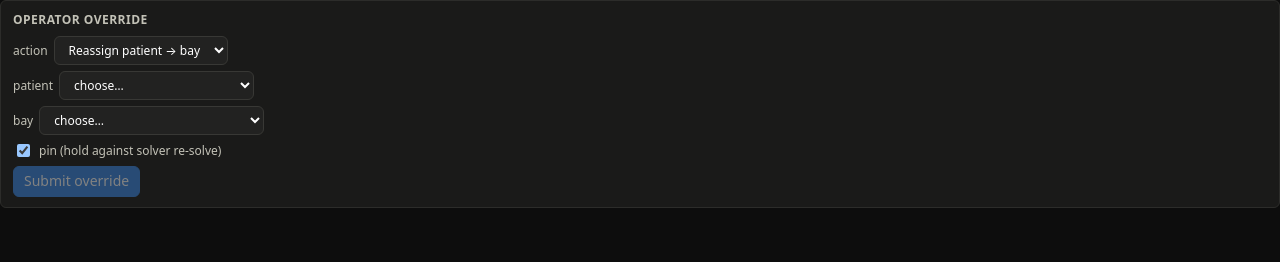
Test case: OverridePanel pin capture (finding #11) › the applied note reflects the pin AS SUBMITTED, not a later toggle
This screenshot has width=1280, height=262.
Select "p-0001 · ESI-3 · waiting_bay" in the dropdown labelled "patient": (157, 86) [59,71,254,100]
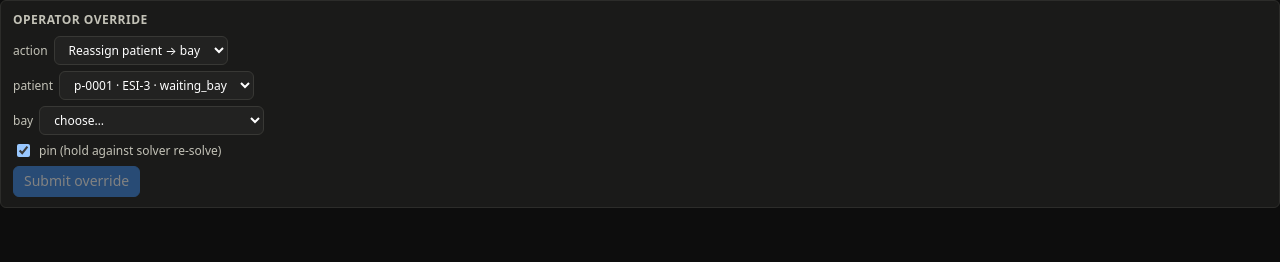
Select "bay-g1 · general · free" in the dropdown labelled "bay": (152, 121) [39,106,264,135]
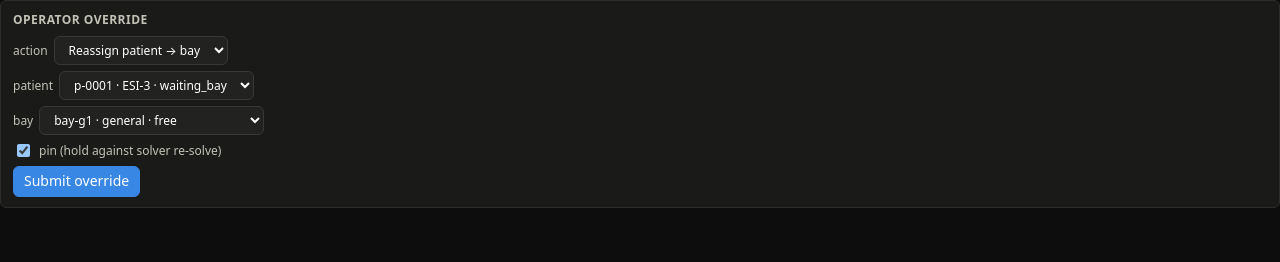
Click the button "Submit override": (77, 182) [13,166,140,197]
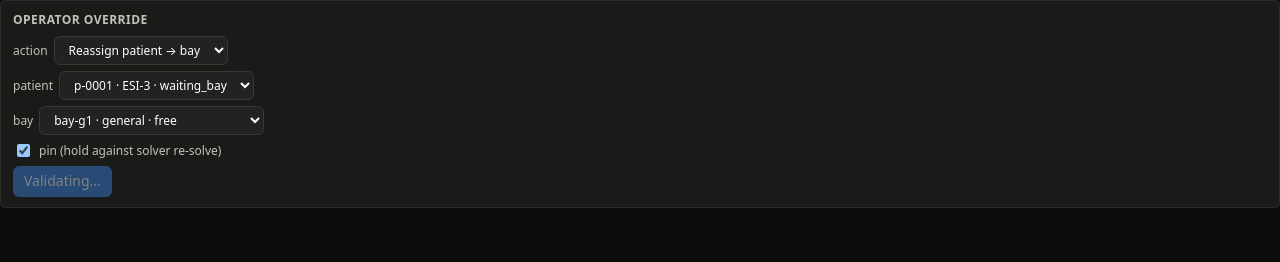
Click the checkbox: (24, 151) [17,144,30,157]
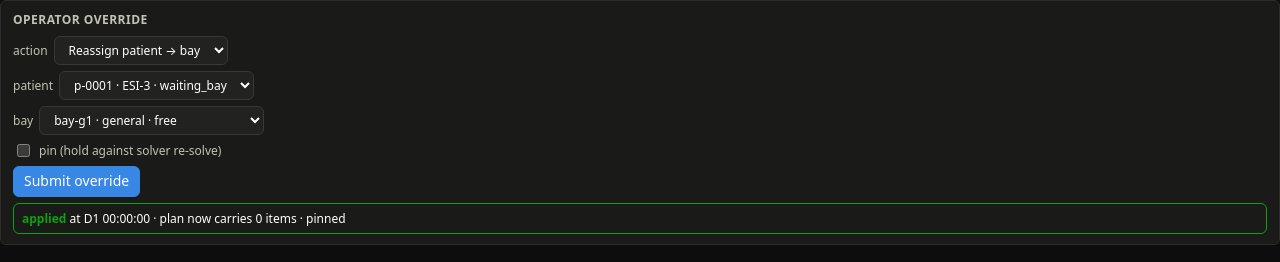
Result: the checkbox is not checked at [17,144,30,157]
Result: the message shows "pinned" at [297,210,346,227]
